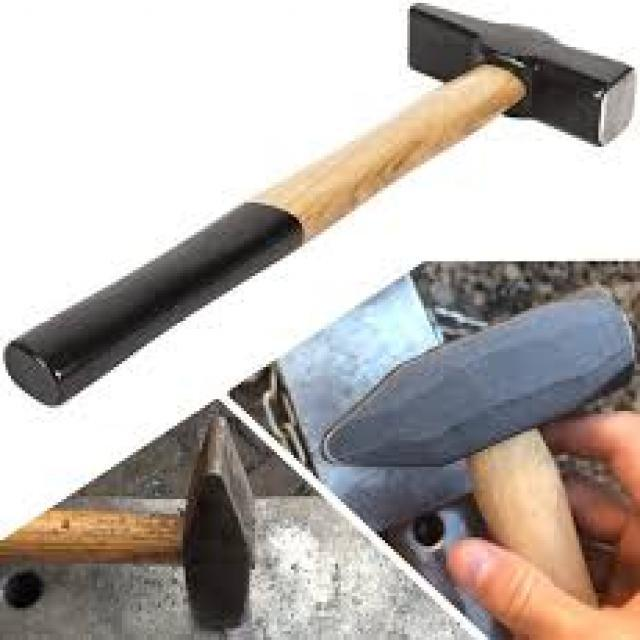hammer: (5, 2, 640, 437), (310, 273, 640, 640), (0, 405, 266, 640)
